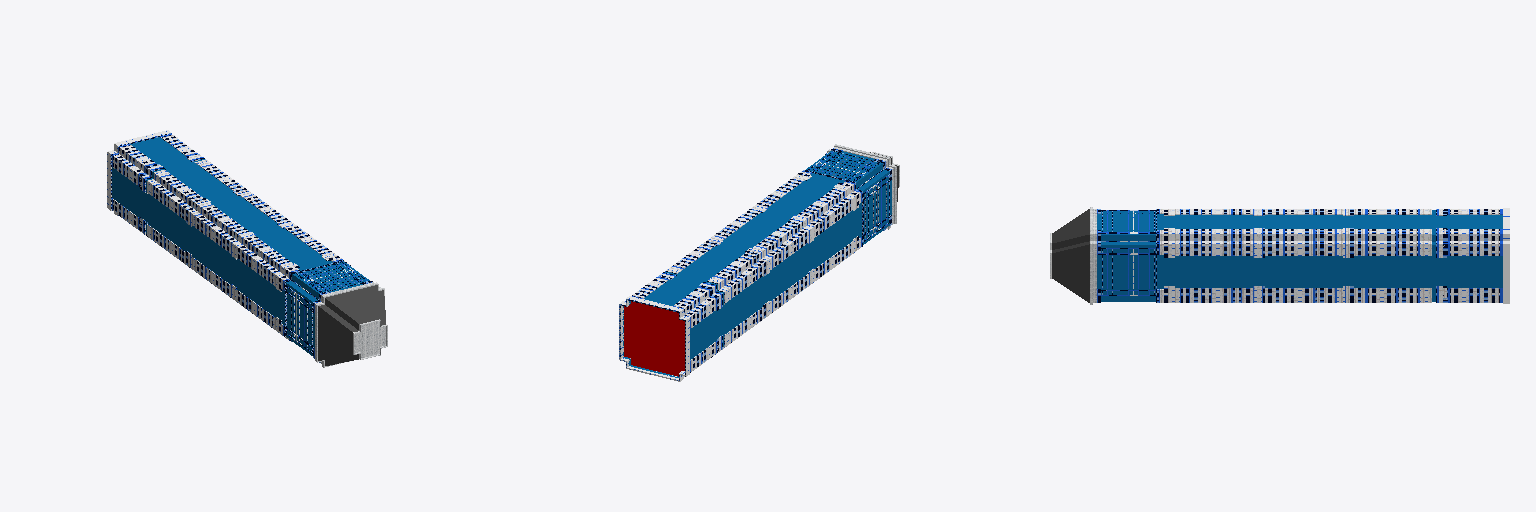
3 renders of one model, left to right at view 1: azimuth 30°, elevation 25°; view 2: azimuth 150°, elevation 25°; view 3: azimuth 270°, elevation 25°, orthographic.
Parts seen in each view (by area): view 1: glass_01, wall_01, wall_2_01, glass_1_01, wall_1_03, wall_07; view 2: glass_01, wall_01, wall_2_01, slab_01, wall_07, wall_02; view 3: glass_01, wall_01, wall_2_01, glass_1_01, wall_02, wall_1_01, wall_04.
Boxes of the visible parts, <box> form: glass_01: <box>112,137,369,355</box>; wall_01: <box>112,134,372,362</box>; wall_2_01: <box>114,135,347,339</box>; glass_1_01: <box>318,285,385,365</box>; wall_1_03: <box>317,284,387,367</box>; wall_07: <box>111,133,368,353</box>; glass_01: <box>623,151,891,377</box>; wall_01: <box>625,148,891,376</box>; wall_2_01: <box>623,171,860,371</box>; slab_01: <box>624,301,684,376</box>; wall_07: <box>619,150,889,381</box>; wall_02: <box>620,296,689,381</box>; glass_01: <box>1097,210,1502,301</box>; wall_01: <box>1097,209,1502,302</box>; wall_2_01: <box>1160,209,1498,302</box>; glass_1_01: <box>1052,209,1089,302</box>; wall_02: <box>1503,208,1509,303</box>; wall_1_01: <box>1090,207,1096,304</box>; wall_04: <box>1102,209,1156,302</box>.
Bounding box in the file's own units: 2520 × 2520 × 14844.
Materials: 7 (3 with a texture image).